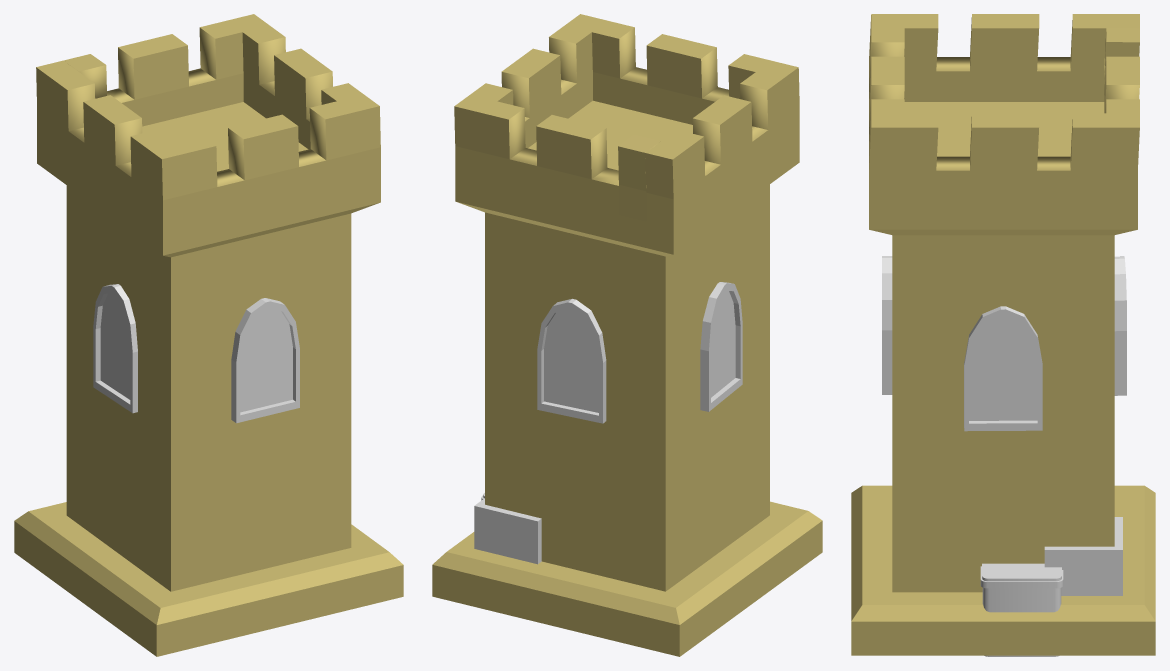
File: FlyingTown.gltf
3 views of the same model, side by side, from view 1: azimuth 30°, elevation 25°; view 2: azimuth 150°, elevation 25°; view 3: azimuth 270°, elevation 25° (orthographic). The views are drawn at different scales.
Parts seen in each view (by area): view 1: Plane, Cube, Cube.001; view 2: Plane, Cube.002, Cube.001, Cube.005; view 3: Plane, Cube.004, Cube.003, Cube.005, Cube.002, Cube.
Boxes of the visible parts, box(x1,y1,x2,y2) form: Plane: box(14, 14, 403, 656); Cube: box(231, 298, 299, 423); Cube.001: box(93, 284, 137, 413); Plane: box(432, 14, 822, 656); Cube.002: box(537, 298, 606, 423); Cube.001: box(700, 282, 742, 411); Cube.005: box(474, 498, 541, 564); Plane: box(851, 14, 1155, 655); Cube.004: box(964, 306, 1042, 431); Cube.003: box(980, 563, 1063, 656); Cube.005: box(1044, 517, 1122, 595); Cube.002: box(1114, 256, 1126, 395); Cube: box(882, 256, 892, 394).
Size of the model in its own units: 7.77 by 14.91 by 7.77.
